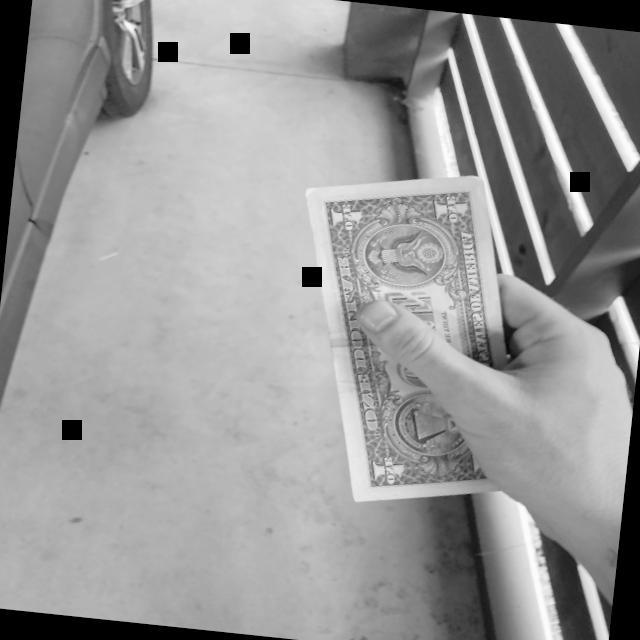one: (303, 174, 530, 504)
